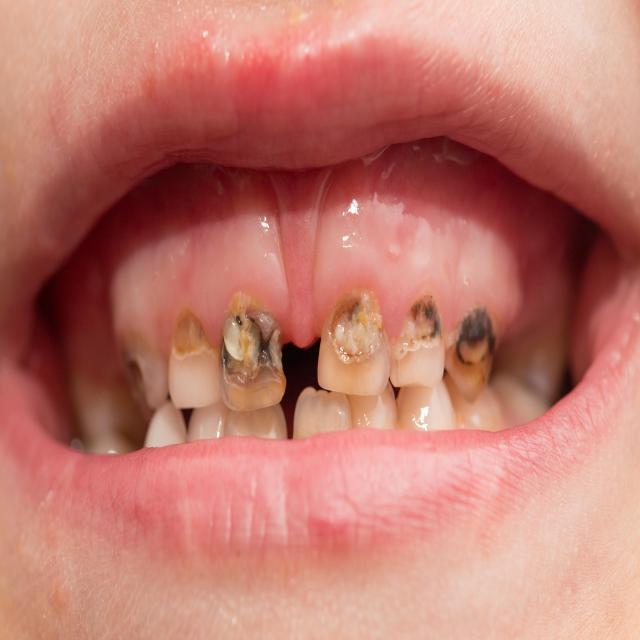caries: (314, 292, 393, 396), (218, 298, 289, 413), (168, 307, 227, 409), (392, 291, 446, 385), (444, 306, 496, 392), (121, 336, 175, 409)
